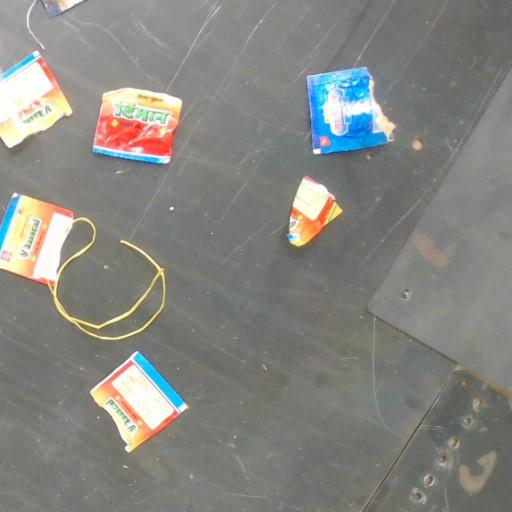conveyor belt: (101, 280, 160, 335), (61, 222, 91, 263)
packet: (91, 352, 187, 451), (306, 67, 394, 153), (0, 51, 71, 147), (0, 193, 72, 286), (93, 88, 181, 163), (287, 177, 340, 246), (42, 0, 83, 15)
thread: (46, 217, 166, 341), (26, 0, 43, 48)
